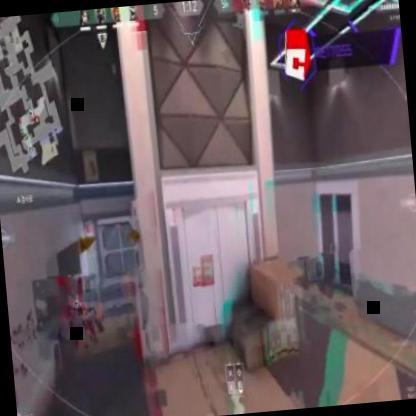enemy: (60, 272, 102, 352)
enemy_head: (72, 296, 82, 312)
